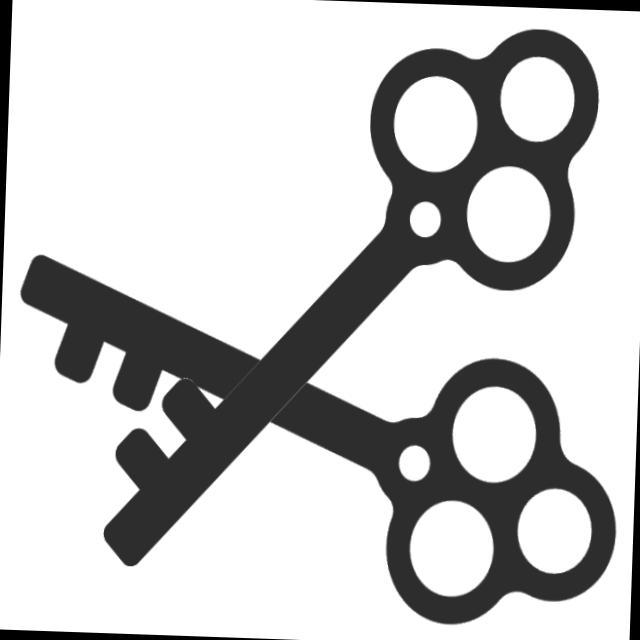key: (39, 13, 634, 605), (1, 238, 634, 639)
